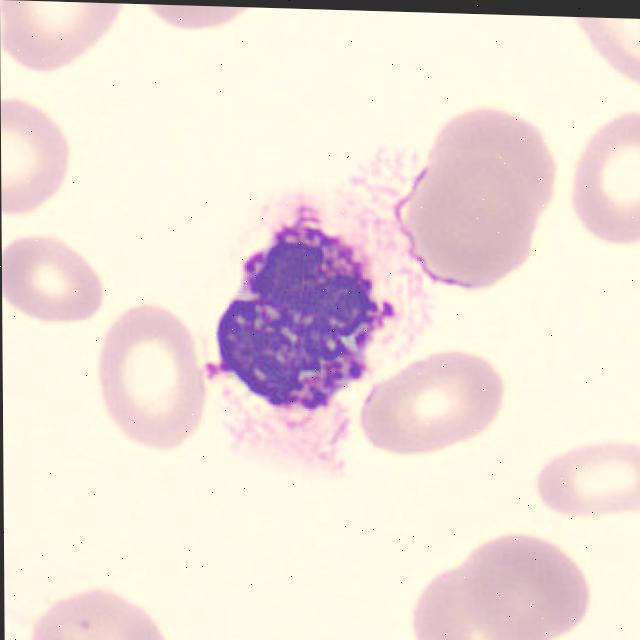basophil: (204, 211, 399, 429)
rbc: (368, 91, 563, 332), (346, 345, 512, 481), (92, 280, 208, 446), (401, 155, 529, 297), (459, 525, 594, 640), (2, 224, 114, 353), (520, 422, 639, 529), (567, 75, 640, 243), (38, 554, 176, 640), (4, 0, 131, 88), (1, 98, 86, 223), (376, 574, 535, 640), (132, 4, 258, 40), (578, 17, 640, 72)
